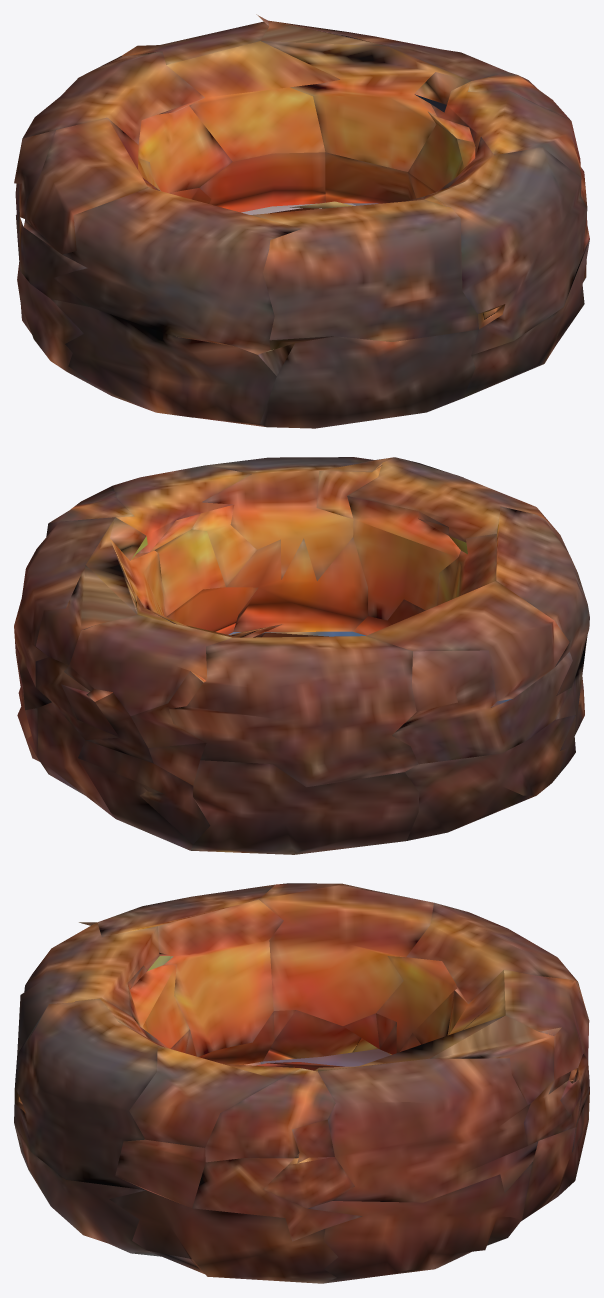
The model's file is ban_terbakar_1_lod2.glb.
3 views of the same model, one above another, from view 1: azimuth 30°, elevation 25°; view 2: azimuth 150°, elevation 25°; view 3: azimuth 270°, elevation 25° (orthographic).
Visible parts, largest first — view 1: tripo_node_82b88b43; view 2: tripo_node_82b88b43; view 3: tripo_node_82b88b43.
Part boxes in pixels (box(x1,y1,x2,y2)): tripo_node_82b88b43: box(14, 14, 589, 428); tripo_node_82b88b43: box(14, 457, 589, 854); tripo_node_82b88b43: box(14, 883, 589, 1283).
Bounding box in the file's own units: 99.21 × 37.57 × 98.51.
Materials: 1 (1 with a texture image).
